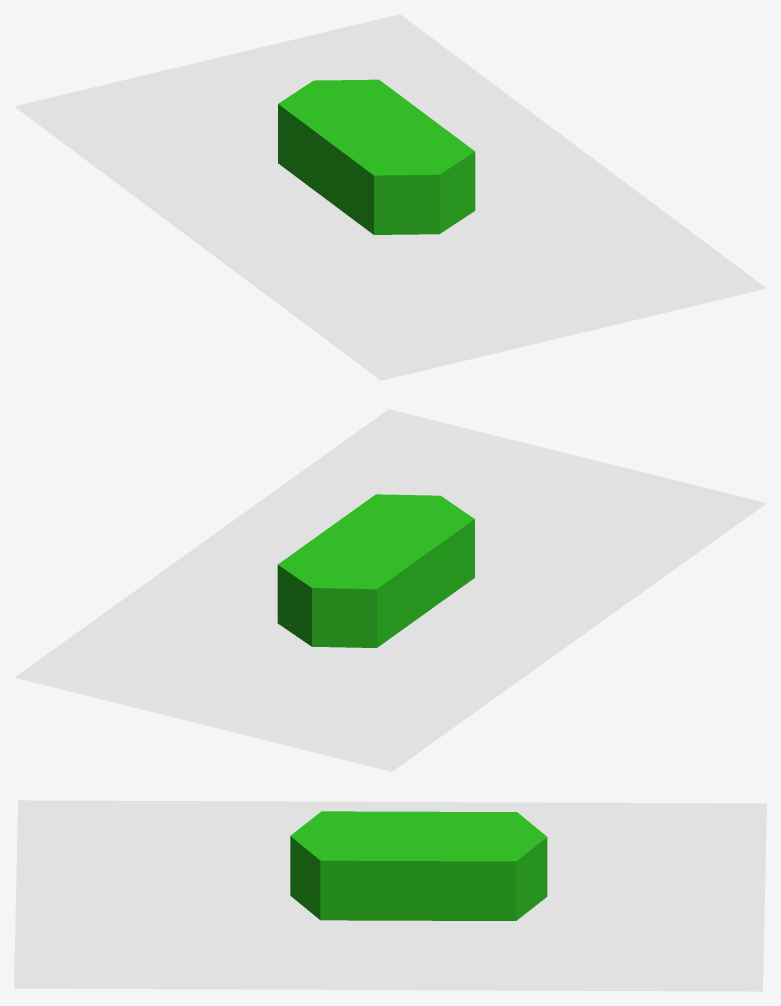
Rendered from NormalContent.fbx.
The picture shows the model from 3 angles, top to bottom: view 1: azimuth 30°, elevation 25°; view 2: azimuth 150°, elevation 25°; view 3: azimuth 270°, elevation 25°; orthographic projection.
Parts seen in each view (by area): view 1: Shadow, Model; view 2: Shadow, Model; view 3: Shadow, Model.
Boxes of the visible parts, x1,y1,x2,y2 form: Shadow: [14, 14, 766, 380]; Model: [278, 79, 475, 234]; Shadow: [14, 409, 766, 771]; Model: [277, 494, 474, 647]; Shadow: [14, 800, 766, 991]; Model: [290, 811, 547, 920].
Size of the model in its own units: 2.07 by 0.308 by 3.44.
